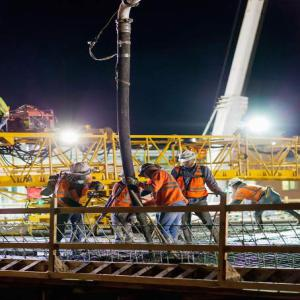red: (140, 164, 158, 178)
white: (178, 151, 199, 169), (70, 162, 91, 178), (228, 178, 244, 192)
